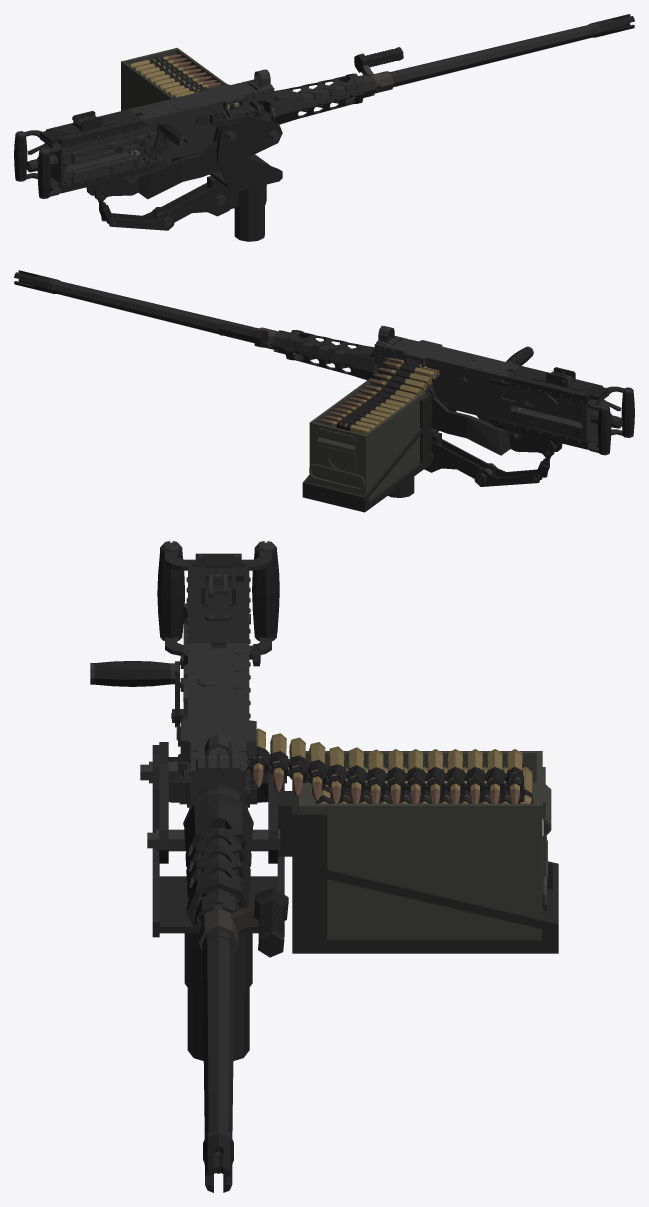
Rendered from lmg_real.glb.
3 views of the same model, one above another, from view 1: azimuth 30°, elevation 25°; view 2: azimuth 150°, elevation 25°; view 3: azimuth 270°, elevation 25° (orthographic). The views are drawn at different scales.
Parts seen in each view (by area): view 1: M2E2_0; view 2: M2E2_0; view 3: M2E2_0.
Part boxes in pixels (<box>): M2E2_0: <box>14,14,634,241</box>; M2E2_0: <box>14,270,634,512</box>; M2E2_0: <box>90,541,558,1192</box>.
Size of the model in its own units: 7.71 by 1.97 by 2.59.
